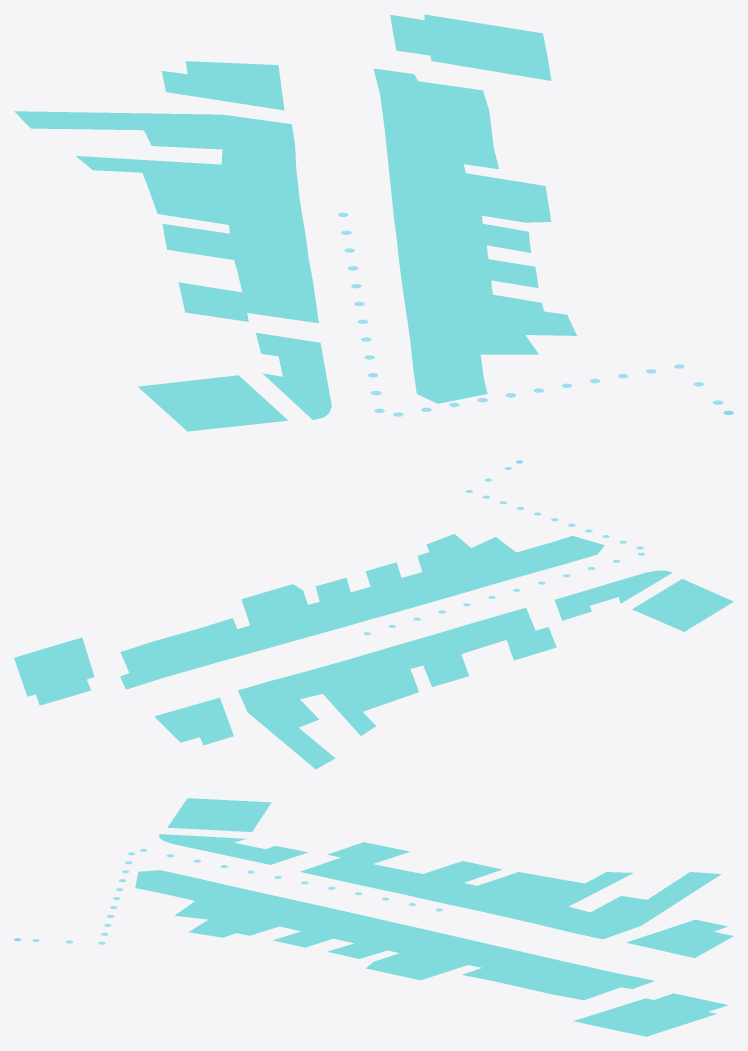
File: lavant-path-test.gltf
The picture shows the model from 3 angles, top to bottom: view 1: azimuth 30°, elevation 25°; view 2: azimuth 150°, elevation 25°; view 3: azimuth 270°, elevation 25°; orthographic projection. The views are drawn at different scales.
Parts seen in each view (by area): view 1: osm-17, osm-5, osm-21, osm-14, osm-1, osm-4, osm-18, osm-20, osm-0, osm-22, osm-23, osm-24 (+13 smaller); view 2: osm-17, osm-5, osm-21, osm-14, osm-1, osm-4, osm-18, osm-20, osm-0, osm-22, osm-23, osm-24 (+13 smaller); view 3: osm-17, osm-5, osm-21, osm-14, osm-1, osm-4, osm-18, osm-20, osm-0, osm-23, osm-22, osm-24 (+13 smaller).
Part boxes in pixels (<box>): osm-17: <box>385,131,551,222</box>; osm-5: <box>76,156,299,201</box>; osm-21: <box>138,375,287,431</box>; osm-14: <box>403,290,576,335</box>; osm-1: <box>179,272,318,323</box>; osm-4: <box>148,187,305,236</box>; osm-18: <box>162,61,284,110</box>; osm-20: <box>380,95,493,148</box>; osm-0: <box>256,333,331,419</box>; osm-22: <box>14,111,223,134</box>; osm-23: <box>393,31,551,80</box>; osm-24: <box>390,14,547,55</box>; osm-17: <box>204,584,315,662</box>; osm-5: <box>304,659,382,735</box>; osm-21: <box>632,579,733,631</box>; osm-14: <box>426,534,495,597</box>; osm-1: <box>467,608,556,660</box>; osm-4: <box>351,644,418,704</box>; osm-18: <box>154,698,233,744</box>; osm-20: <box>149,627,215,677</box>; osm-0: <box>555,570,672,620</box>; osm-22: <box>248,705,335,769</box>; osm-23: <box>47,637,94,698</box>; osm-24: <box>14,648,63,705</box>; osm-17: <box>366,936,557,980</box>; osm-5: <box>486,872,632,923</box>; osm-21: <box>167,798,271,831</box>; osm-14: <box>189,894,317,937</box>; osm-1: <box>300,842,409,885</box>; osm-4: <box>433,872,560,912</box>; osm-18: <box>626,919,733,957</box>; osm-20: <box>495,960,613,994</box>; osm-0: <box>159,834,307,864</box>; osm-23: <box>574,993,702,1029</box>; osm-22: <box>613,872,721,925</box>; osm-24: <box>611,999,727,1036</box>.
Bounding box in the file's own units: 11.74 × 0.197 × 15.25.
